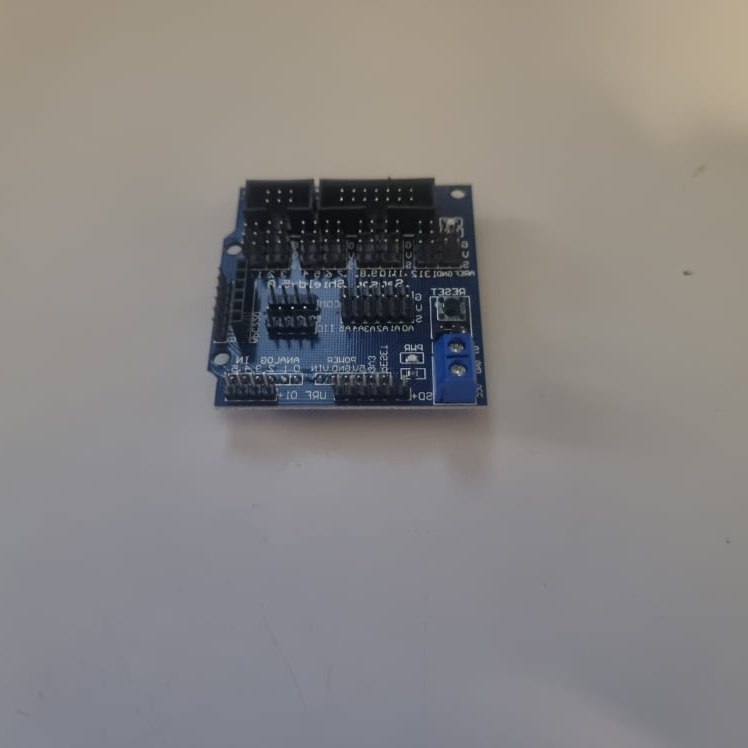5V EXPANSION: (202, 171, 490, 414)
